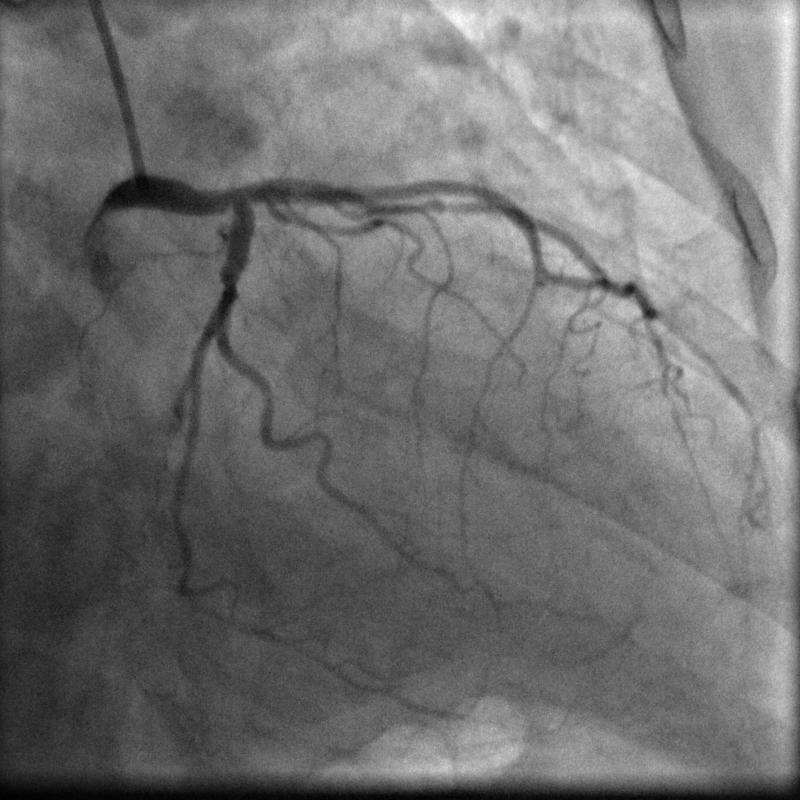Stenosis: (399, 196, 473, 218)
